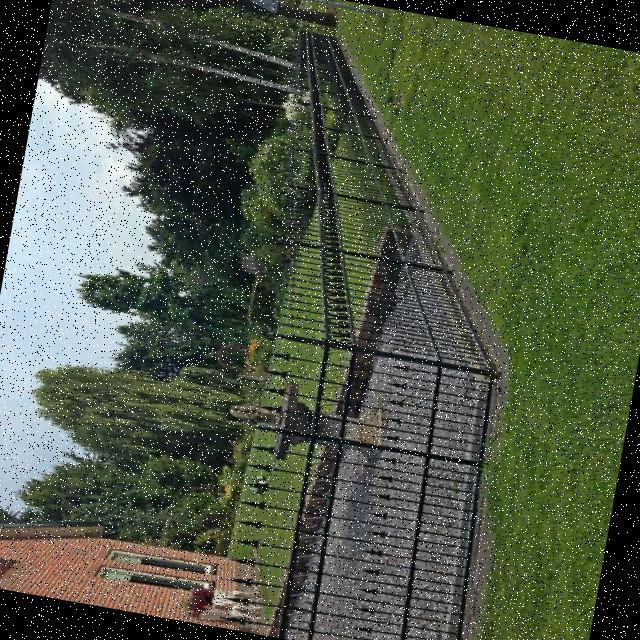fence line: (214, 340, 505, 639), (258, 174, 487, 369), (255, 21, 380, 200)
